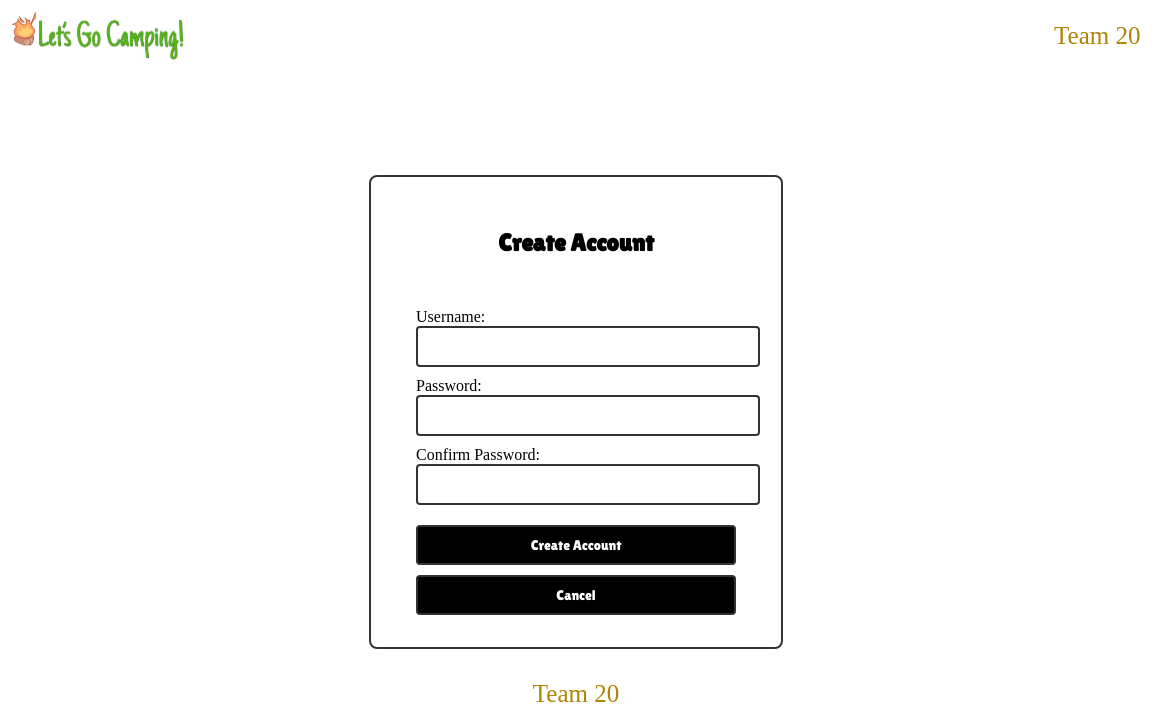
Test case: CreateAccount Component › displays error when fetch response is not ok
This screenshot has width=1152, height=720.
# Fill in the form and submit it
Type "testUser" into the field labelled "Username:" at (588, 347), box [416,326,760,367]
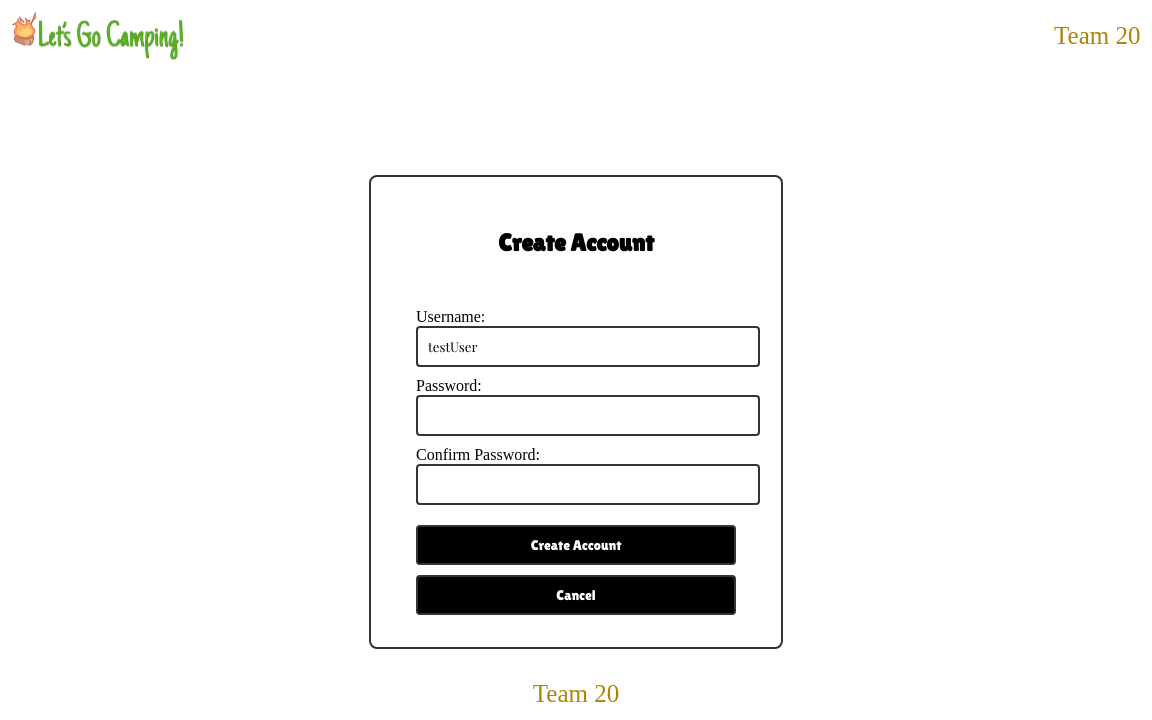
Type "Password123" into the password field labelled "Password:" at (588, 416), box [416,395,760,436]
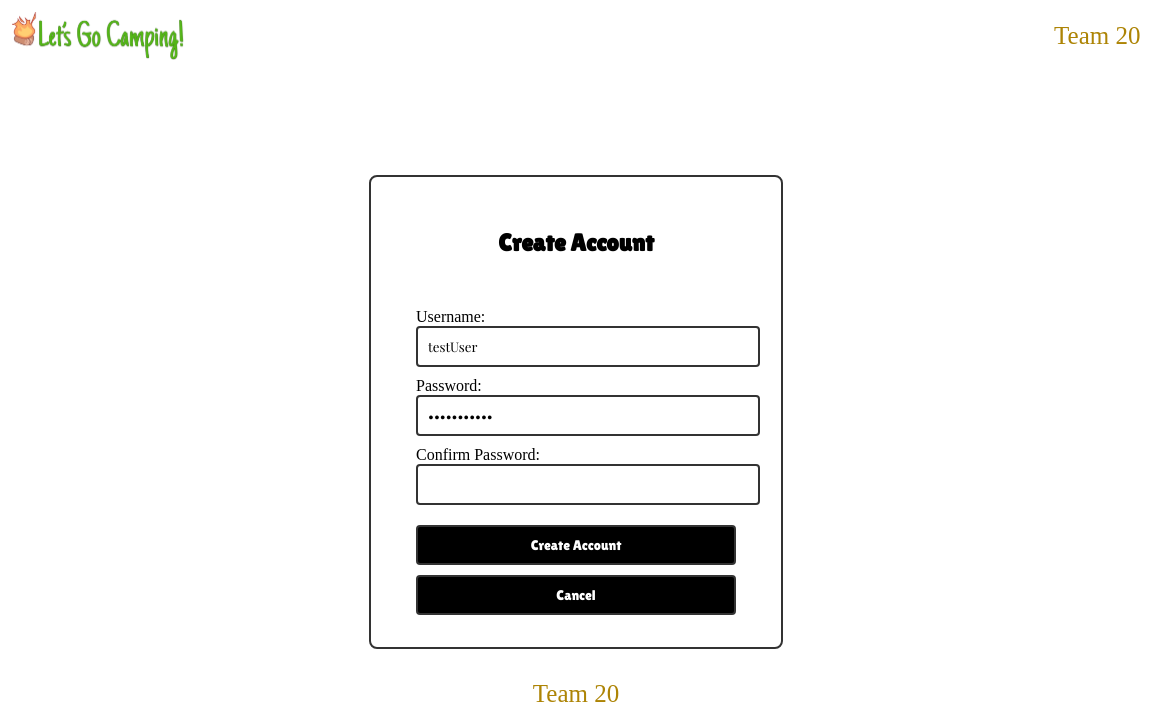
Type "Password123" into the password field labelled "Confirm Password:" at (588, 485), box [416,464,760,505]
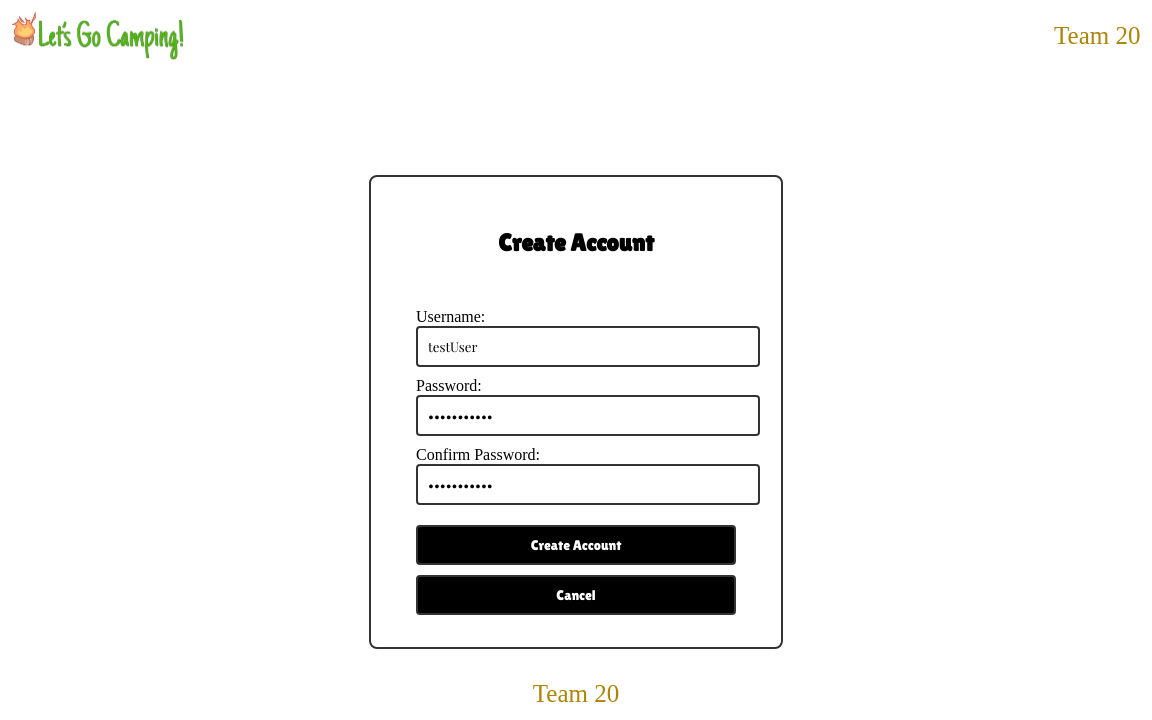
Click the button "Create Account" at (576, 545), box [416,525,736,565]
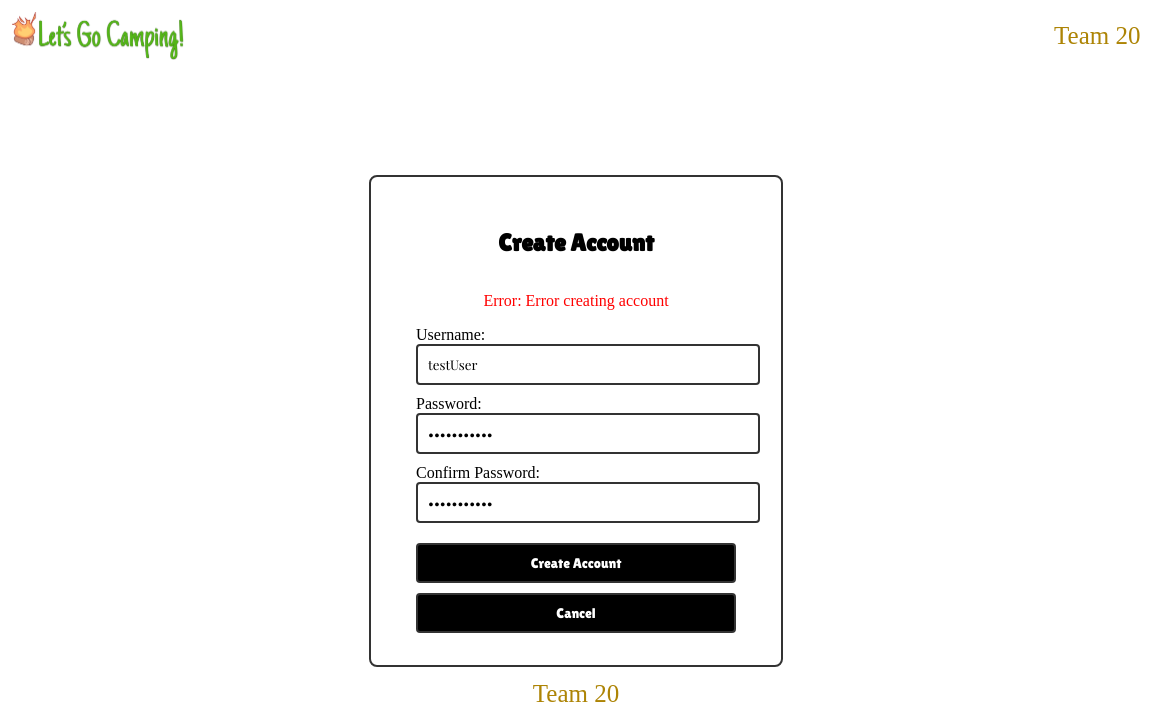
Expected: the text "Error: Error creating account" is shown, [483,292,669,310]
